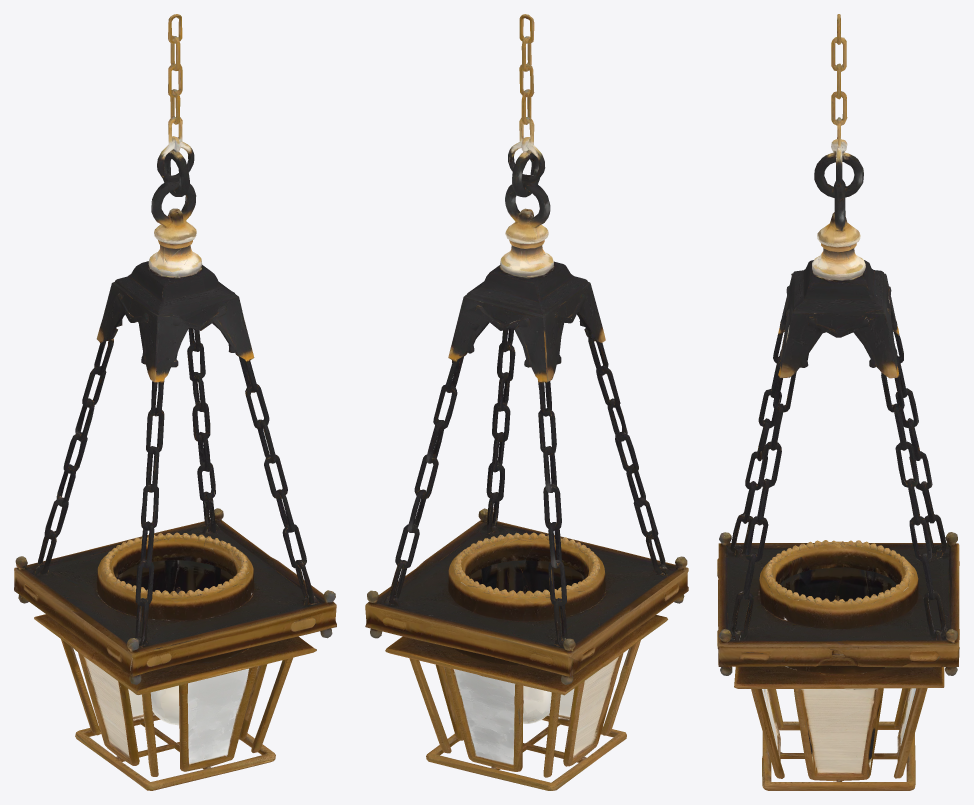
The model's file is cinder-lamp.glb.
3 renders of one model, left to right at view 1: azimuth 30°, elevation 25°; view 2: azimuth 150°, elevation 25°; view 3: azimuth 270°, elevation 25°, orthographic.
Size of the model in its own units: 0.5605 by 1.9 by 0.5598.
Materials: 1 (1 with a texture image).
